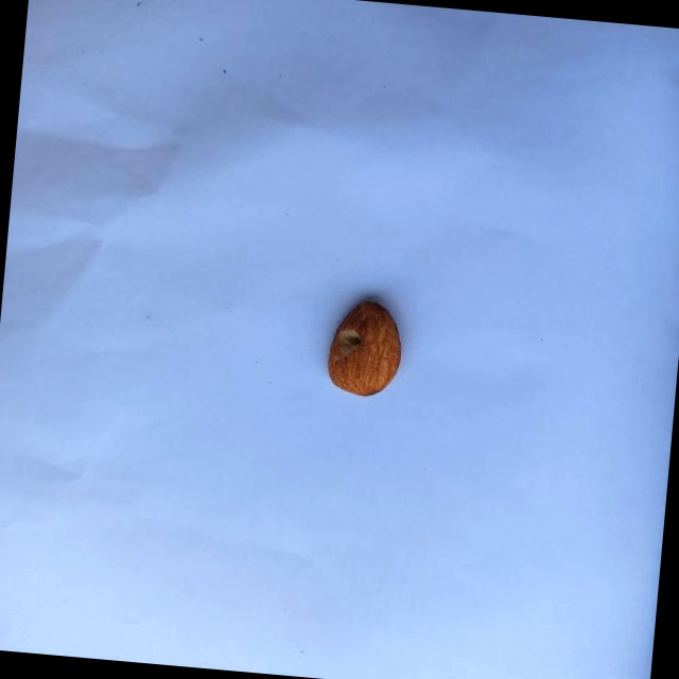grade3: (320, 292, 408, 404)
